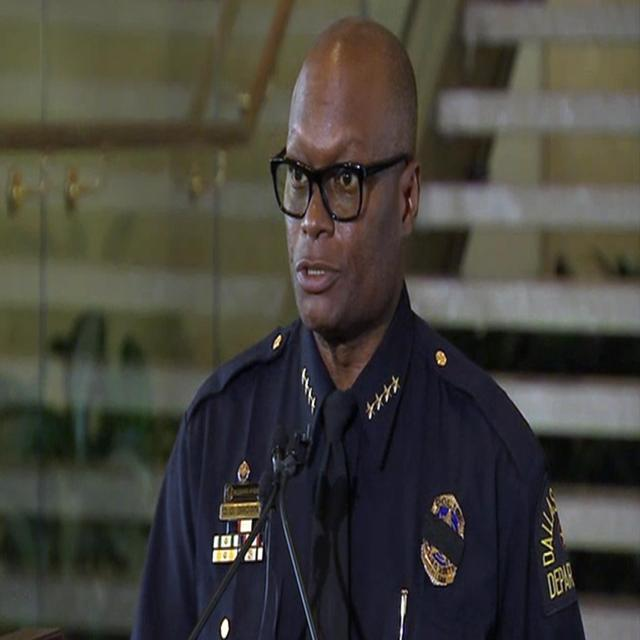police: (125, 0, 602, 640)
